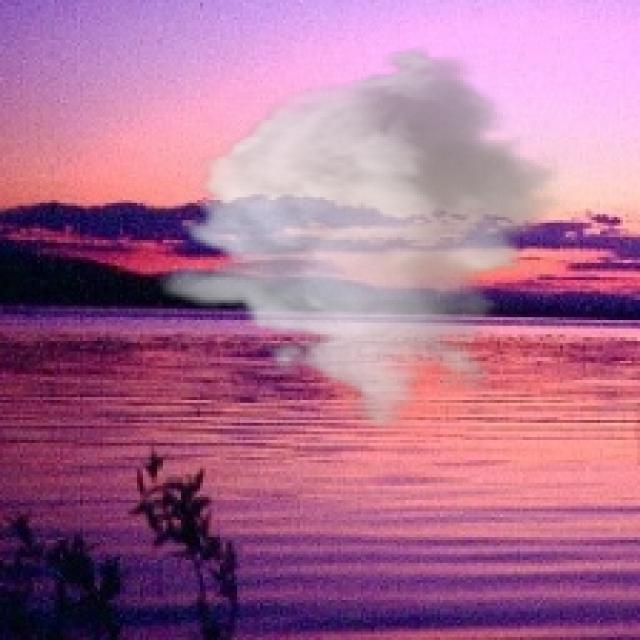Smoke: (154, 46, 566, 432)
